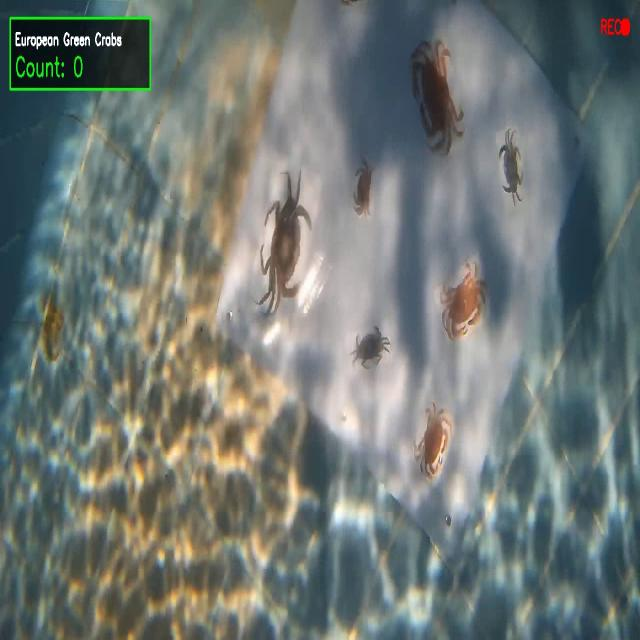European_Green_Crab: (246, 160, 324, 331), (349, 312, 400, 374), (492, 124, 527, 207)
